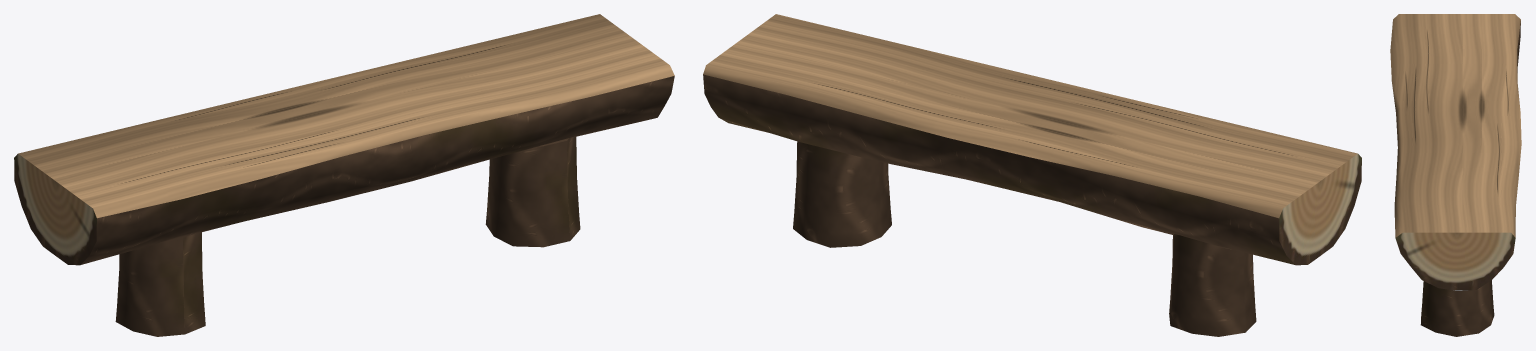
File: log-bench.glb
3 views of the same model, side by side, from view 1: azimuth 30°, elevation 25°; view 2: azimuth 150°, elevation 25°; view 3: azimuth 270°, elevation 25° (orthographic). The views are drawn at different scales.
Visible parts, largest first — view 1: log-bench; view 2: log-bench; view 3: log-bench.
Part boxes in pixels (left/top/right/bottom): log-bench: left=14, top=14, right=674, bottom=336; log-bench: left=703, top=14, right=1361, bottom=336; log-bench: left=1390, top=14, right=1521, bottom=336.
Bounding box in the file's own units: 1.9 × 0.51 × 0.4822.
Materials: 1 (1 with a texture image).
